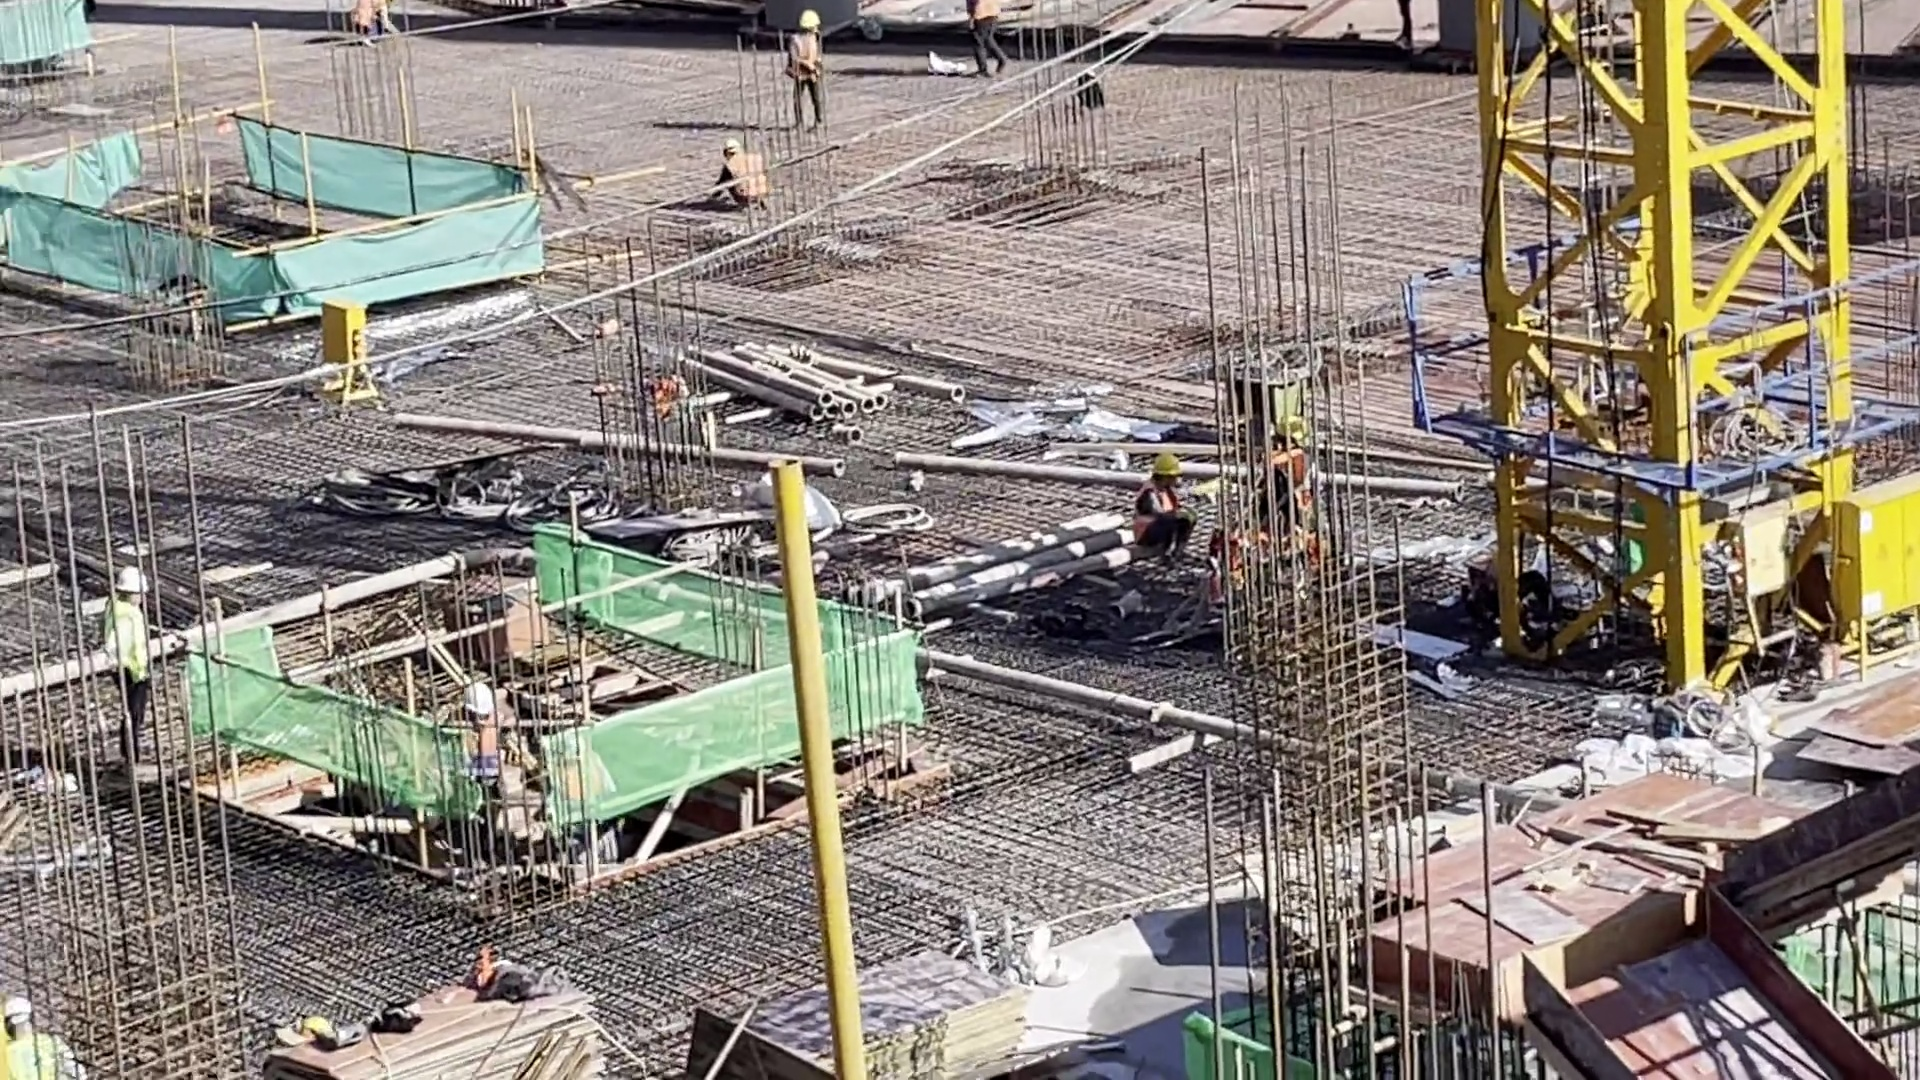board: (676, 957, 1025, 1080), (257, 983, 606, 1080)
ebox: (1837, 467, 1920, 674), (1730, 506, 1801, 666), (315, 294, 376, 410)
helmet: (457, 683, 497, 719), (1, 993, 34, 1025), (1146, 449, 1181, 476), (115, 569, 149, 595), (796, 10, 821, 30), (722, 138, 745, 155)
person: (99, 569, 158, 774), (1, 993, 90, 1080), (1131, 451, 1199, 563), (785, 7, 828, 130), (703, 137, 769, 211), (964, 1, 1010, 77), (340, 1, 403, 44)
vest: (106, 601, 151, 685), (722, 154, 766, 197), (788, 29, 817, 89), (970, 1, 1004, 23)
